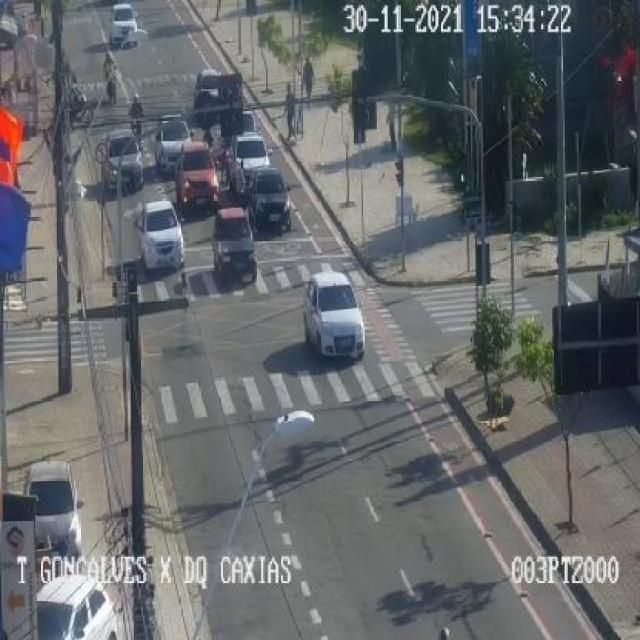Car: (21, 463, 91, 577), (30, 566, 120, 640), (304, 270, 365, 375), (214, 212, 260, 286), (246, 168, 294, 236), (137, 202, 180, 276), (177, 134, 216, 211), (226, 136, 266, 202), (99, 136, 139, 198), (154, 115, 188, 181), (108, 0, 138, 46)
Cycle: (123, 90, 146, 140)
